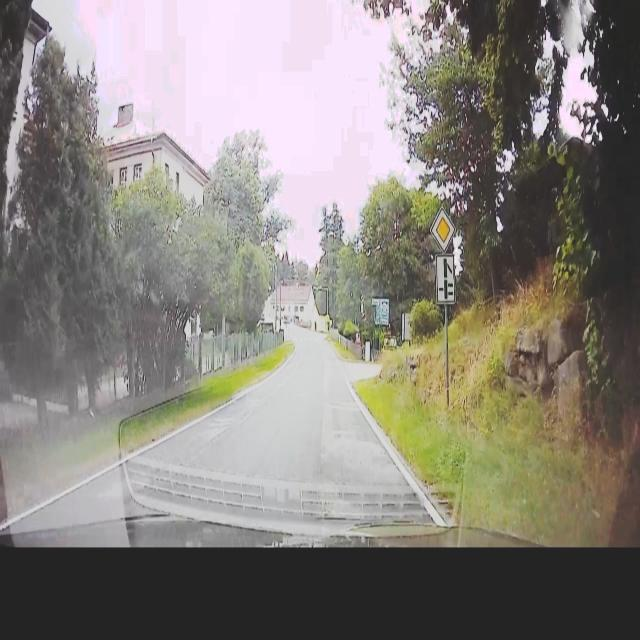Priority road: (430, 203, 458, 253)
